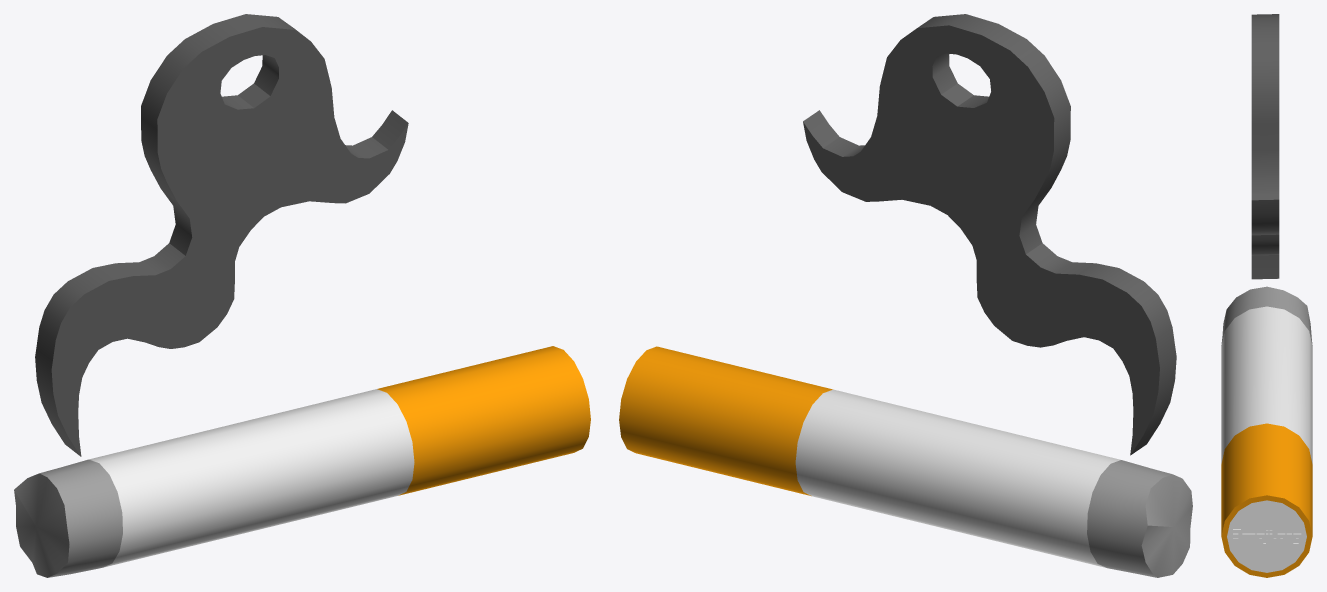
Rendered from cigarette.gltf.
3 views of the same model, side by side, from view 1: azimuth 30°, elevation 25°; view 2: azimuth 150°, elevation 25°; view 3: azimuth 270°, elevation 25° (orthographic). The views are drawn at different scales.
Visible parts, largest first — view 1: Plane.346; view 2: Plane.346; view 3: Plane.346.
Part boxes in pixels (bbox=[...]): Plane.346: bbox=[14, 14, 590, 577]; Plane.346: bbox=[619, 14, 1192, 577]; Plane.346: bbox=[1221, 14, 1312, 577].
Bounding box in the file's own units: 1.85 × 1.69 × 0.331.
1 material, 1 textured.
